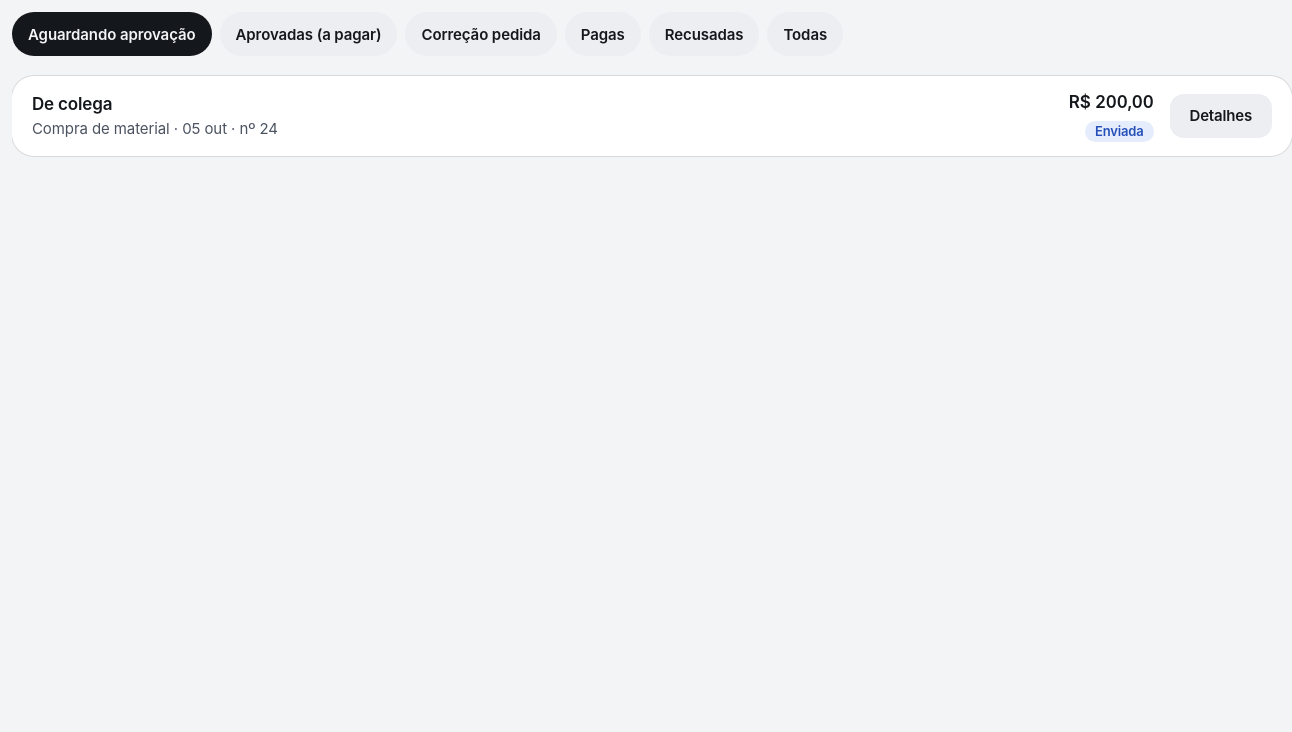
it: Fila da gestao › marca como 'sua' a despesa que a pessoa enviou e abre o detalhe da fila com as acoes
This screenshot has width=1292, height=732.
Step 1. Click the button with aria-label "Abrir detalhes" → (1221, 116), box [1170,94,1272,138]
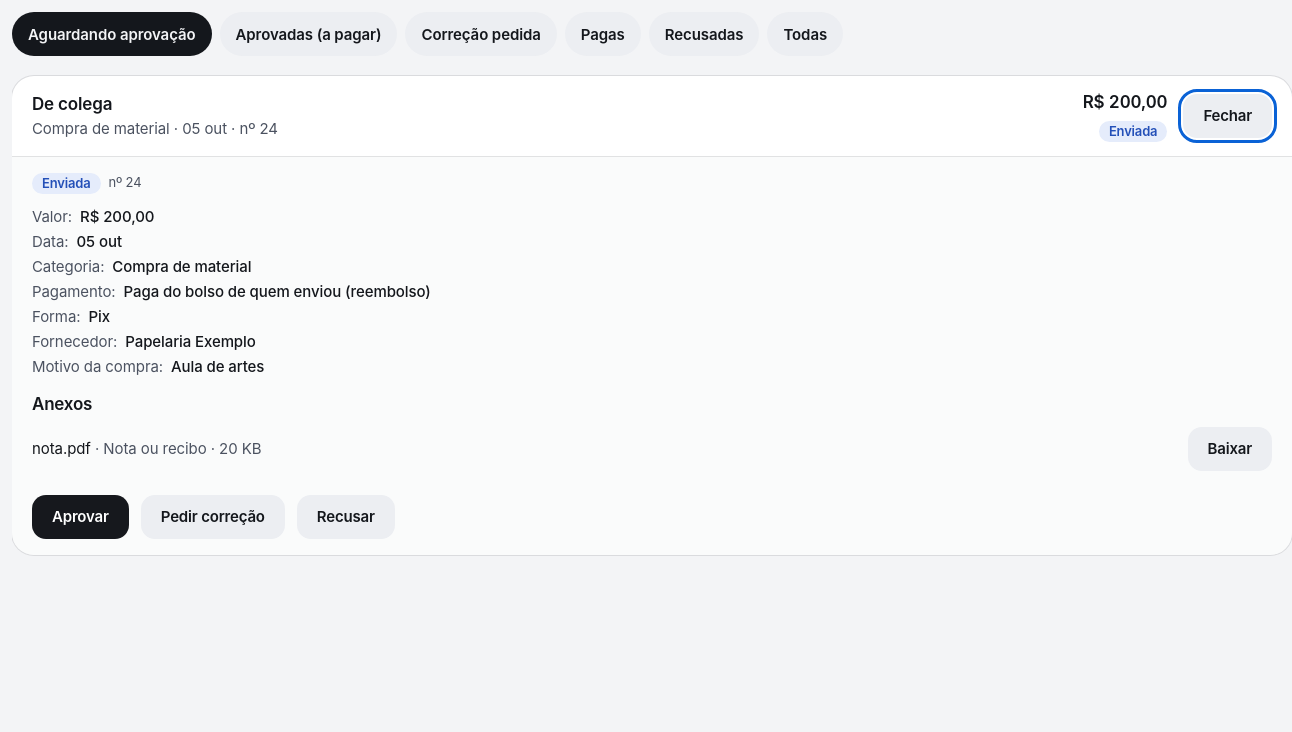
Now the button "Aprovar" is shown, box [32,495,129,539]
